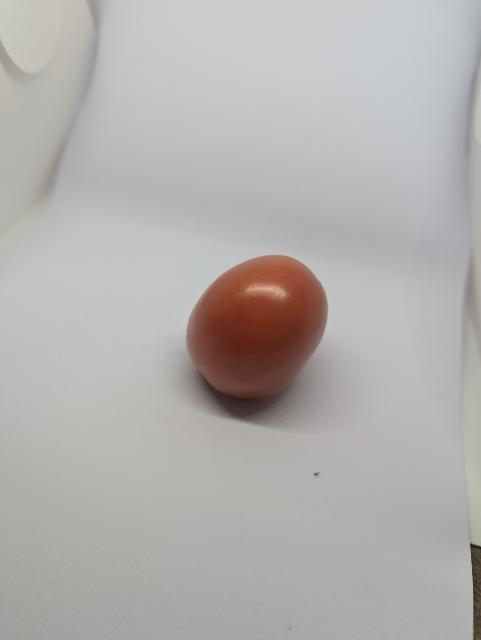red: (184, 252, 331, 403)
